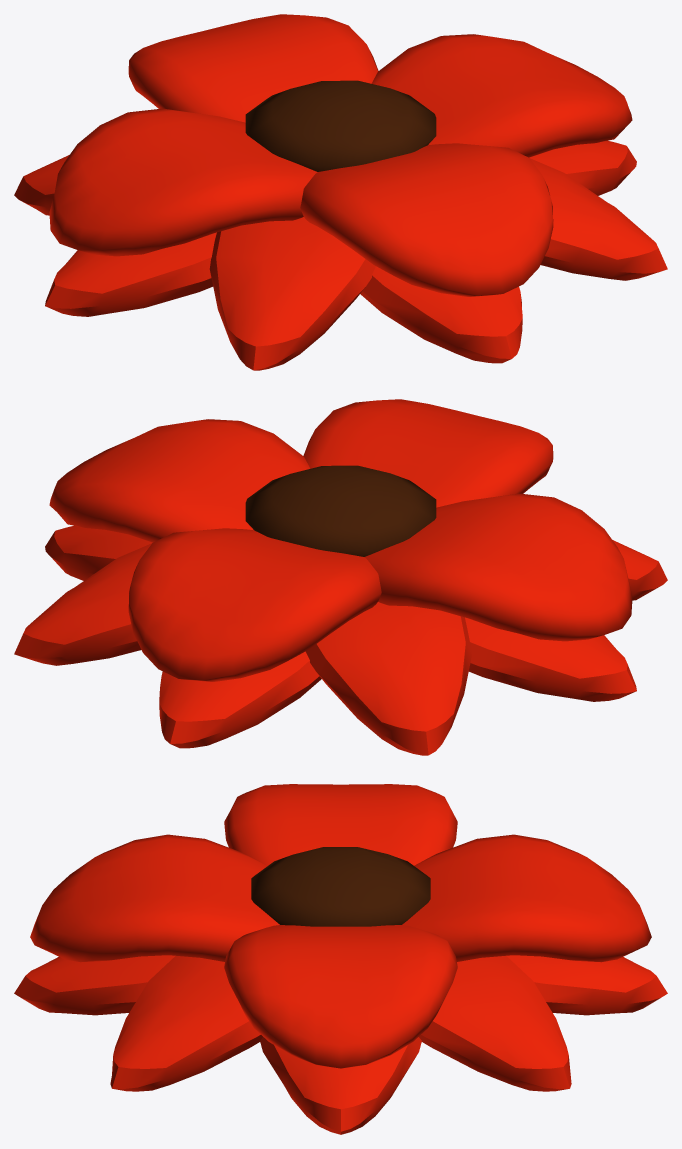
The model's file is Bloemen.fbx.
3 views of the same model, one above another, from view 1: azimuth 30°, elevation 25°; view 2: azimuth 150°, elevation 25°; view 3: azimuth 270°, elevation 25° (orthographic). The views are drawn at different scales.
Parts seen in each view (by area): view 1: Plane.013, Roundcube.002; view 2: Plane.013, Roundcube.002; view 3: Plane.013, Roundcube.002.
Part boxes in pixels (x1,y1,x2,y2): Plane.013: (49, 14, 632, 296); Roundcube.002: (14, 140, 667, 370); Plane.013: (49, 399, 632, 681); Roundcube.002: (14, 525, 667, 755); Plane.013: (30, 784, 651, 1068); Roundcube.002: (14, 955, 667, 1134).
Size of the model in its own units: 693 by 168 by 693.
